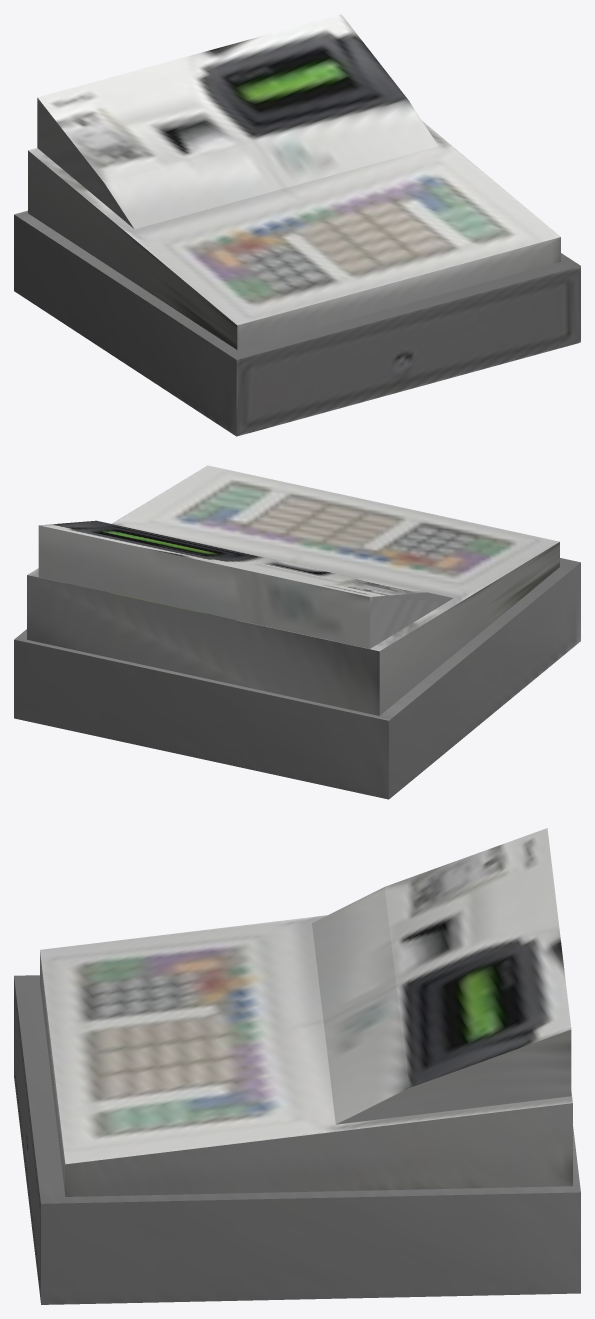
File: register.gltf
3 views of the same model, one above another, from view 1: azimuth 30°, elevation 25°; view 2: azimuth 150°, elevation 25°; view 3: azimuth 270°, elevation 25° (orthographic). The views are drawn at different scales.
Visible parts, largest first — view 1: Cube.001, Cube.002, Cube; view 2: Cube.001, Cube, Cube.002; view 3: Cube.001, Cube, Cube.002.
Boxes of the visible parts, bbox=[...] form: Cube.001: bbox=[28, 121, 560, 349]; Cube.002: bbox=[37, 14, 438, 229]; Cube: bbox=[14, 210, 580, 436]; Cube.001: bbox=[27, 465, 559, 715]; Cube: bbox=[14, 558, 580, 799]; Cube.002: bbox=[38, 520, 453, 648]; Cube.001: bbox=[40, 915, 572, 1196]; Cube: bbox=[14, 975, 580, 1304]; Cube.002: bbox=[312, 828, 571, 1124].
Size of the model in its own units: 1.48 by 0.7208 by 1.48.
Materials: 3 (3 with a texture image).
